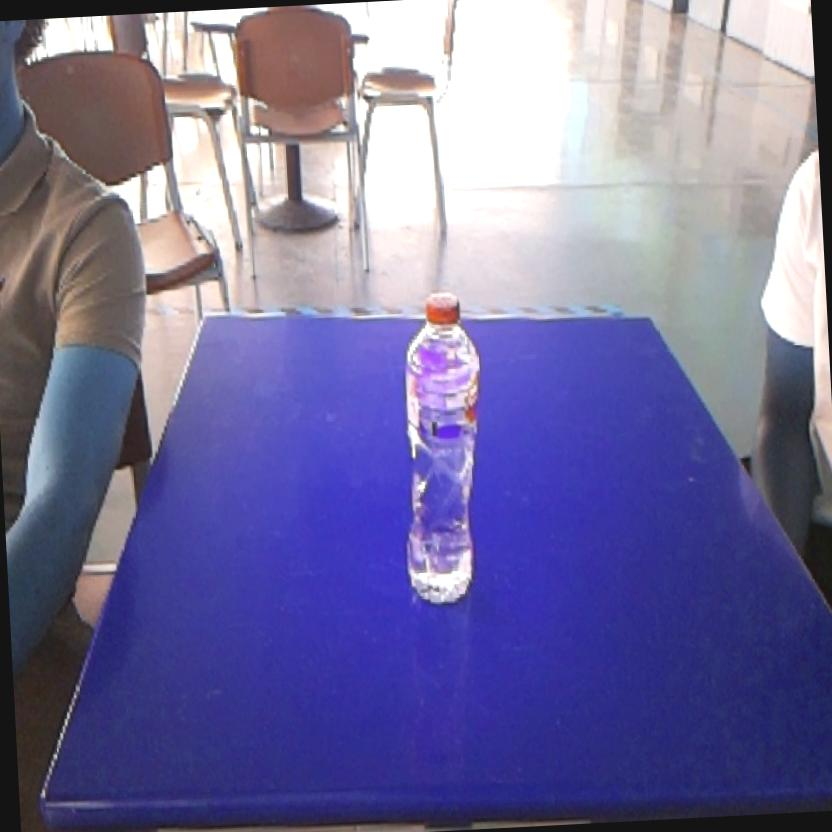good: (380, 284, 494, 612)
